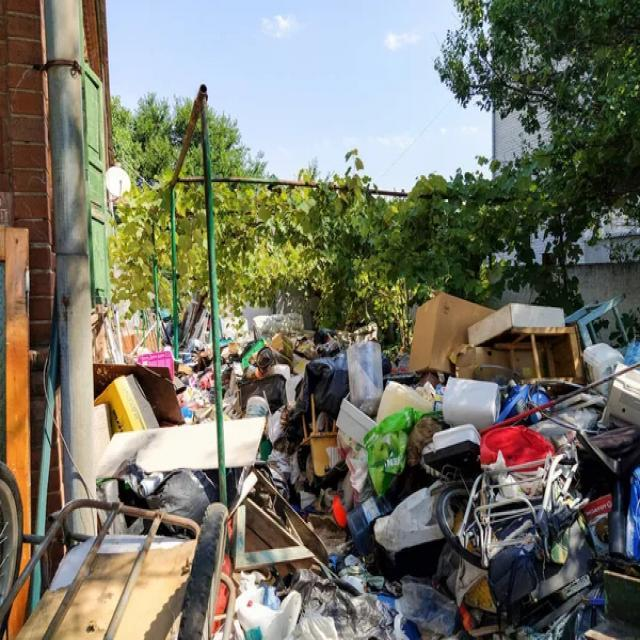garbage: (235, 278, 627, 612)
